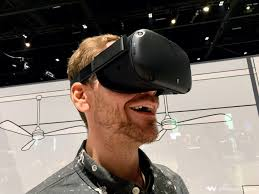oculus: (90, 29, 194, 99)
